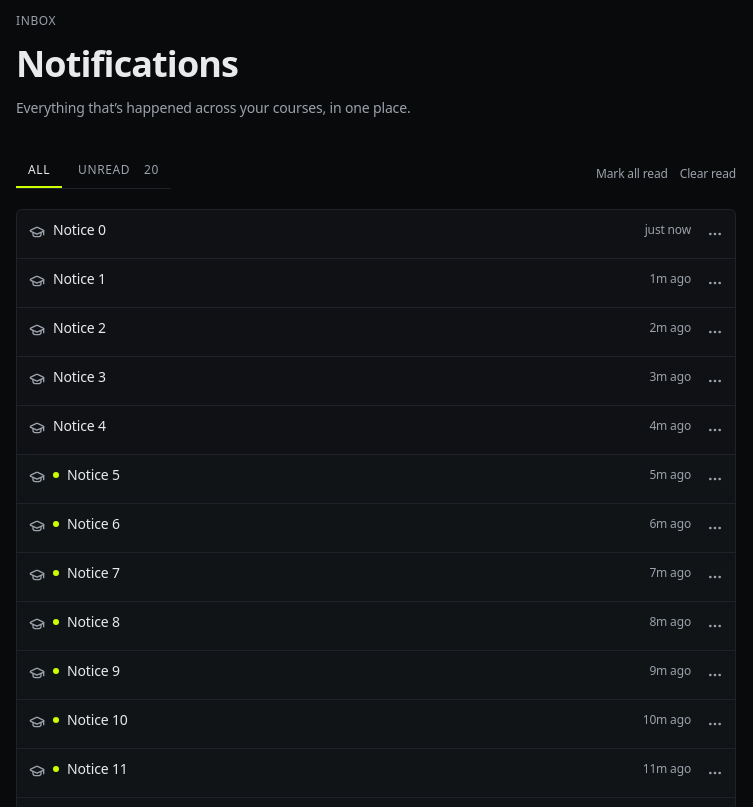
Test case: NotificationsPage › switches to the unread filter server-side
Expected: the text "Notice 0" is shown, [53,220,106,240]
Click the tab "Unread 20" at coordinates (118, 173), box [66,158,171,188]
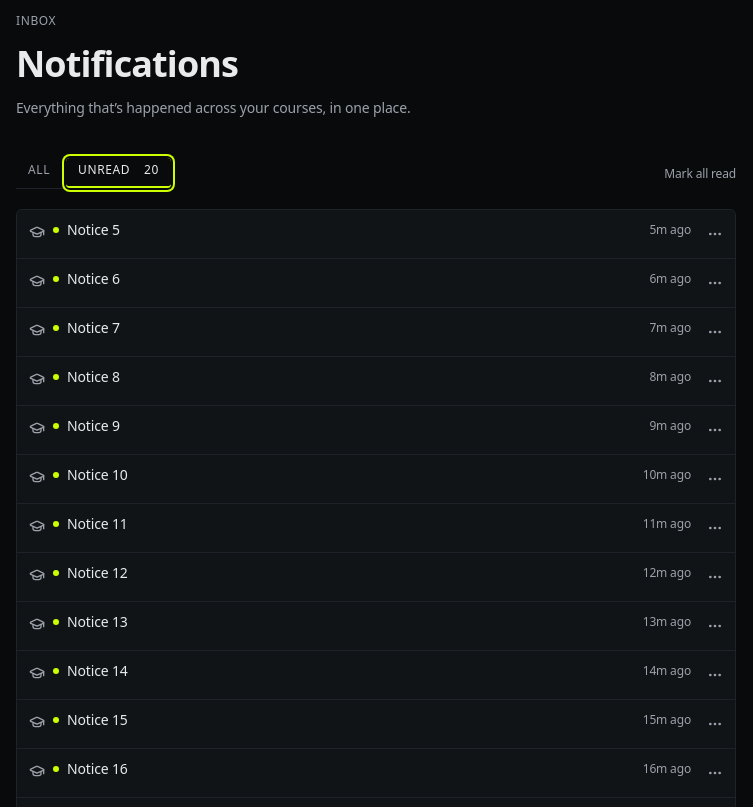
Now the button "Notice 0" is gone
Now the text "Notice 5" is shown, box [67,220,120,240]
